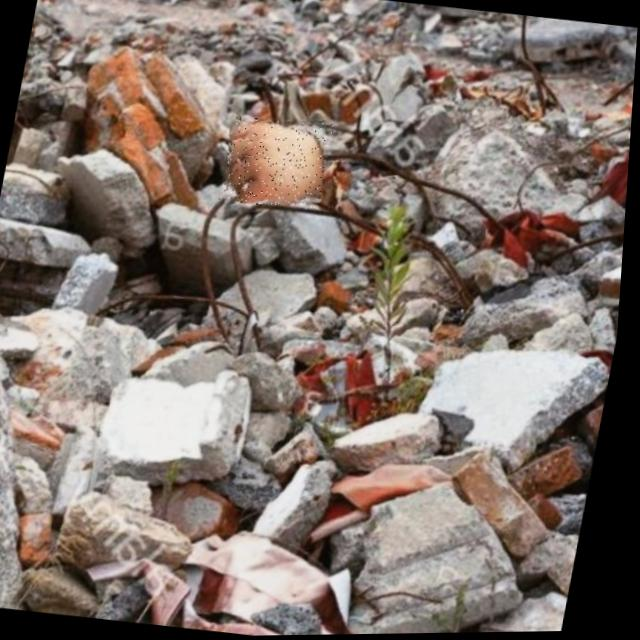Person in Rubble: (220, 113, 335, 214)
